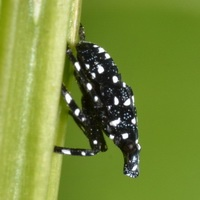insect: (54, 25, 140, 177)
